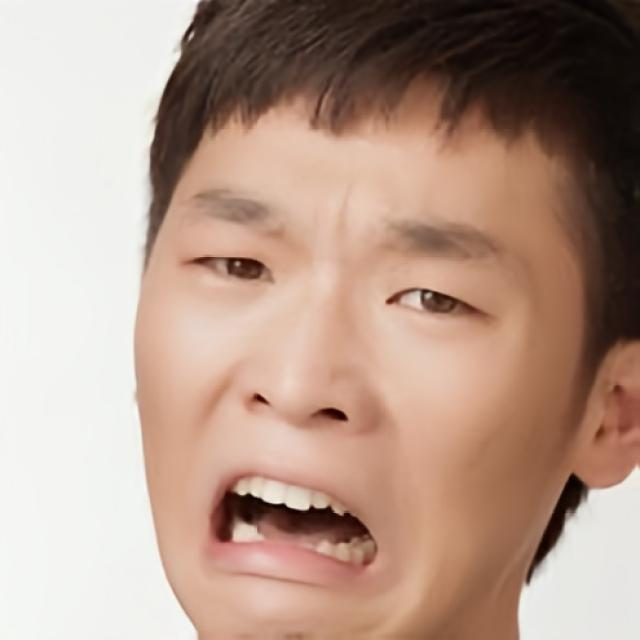disgust: (133, 81, 591, 640)
